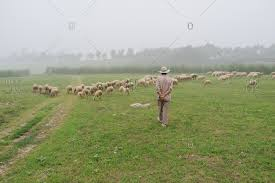sheep: (245, 78, 259, 91), (118, 86, 130, 96), (135, 78, 145, 89), (104, 85, 114, 95), (93, 89, 102, 100), (31, 83, 39, 94), (64, 84, 73, 93), (77, 91, 87, 99), (202, 79, 211, 87), (48, 87, 58, 94), (218, 75, 228, 82), (171, 77, 178, 86), (196, 75, 205, 80)
